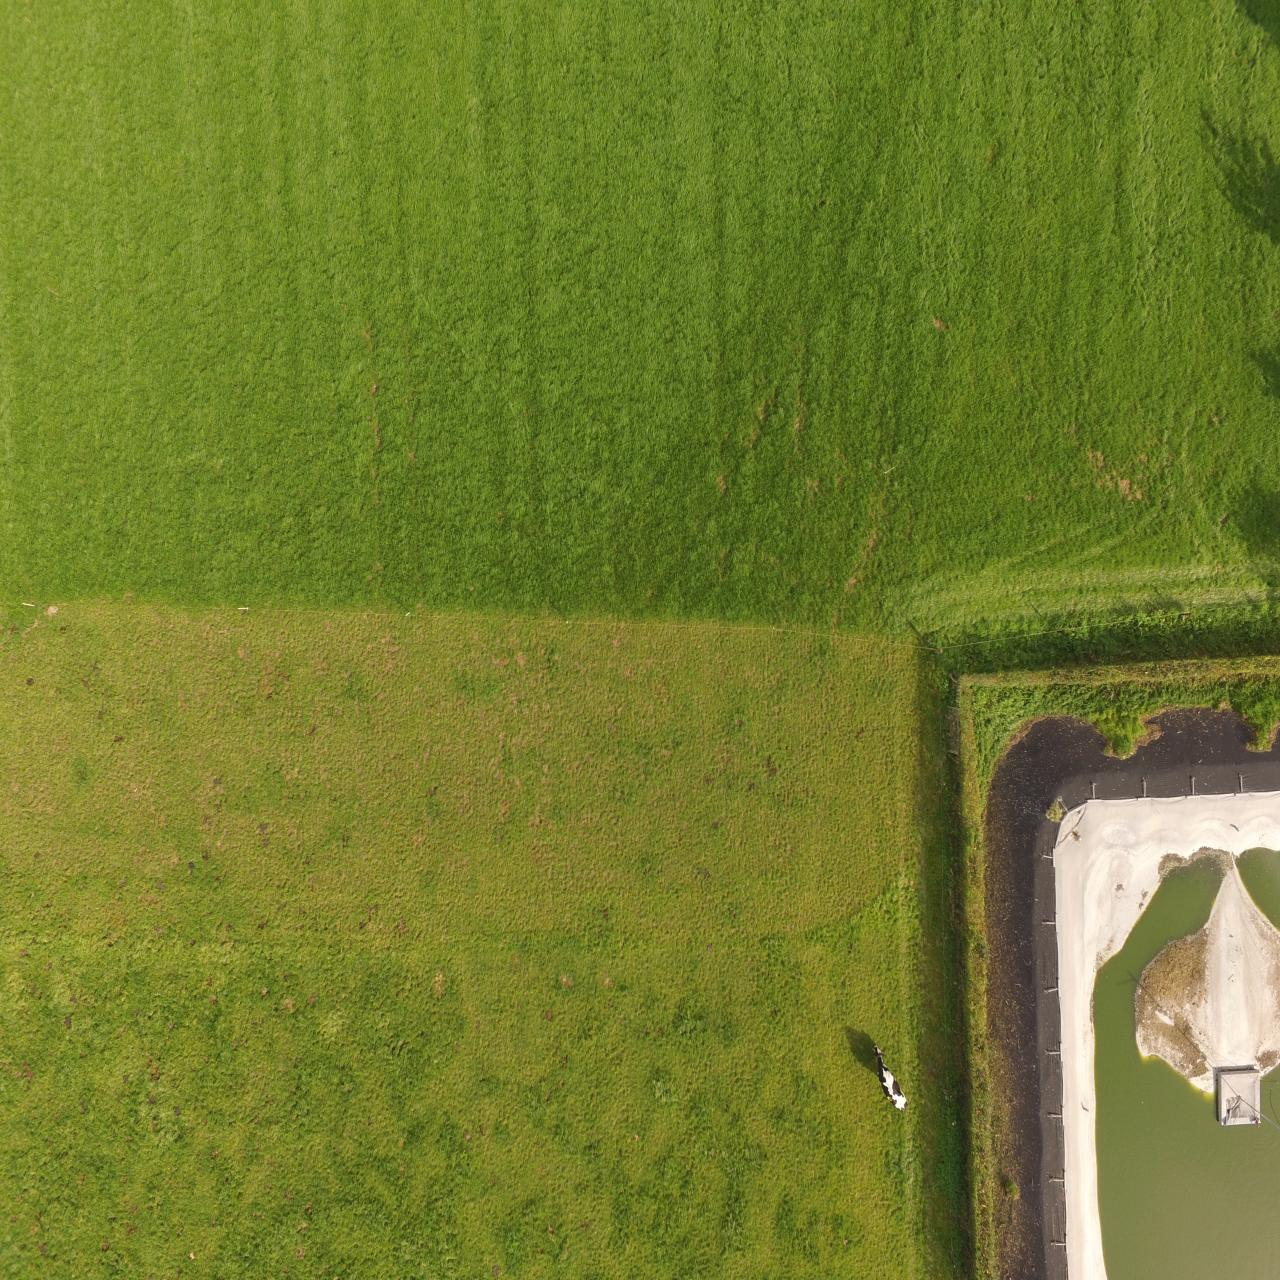cow: (872, 1043, 908, 1112)
